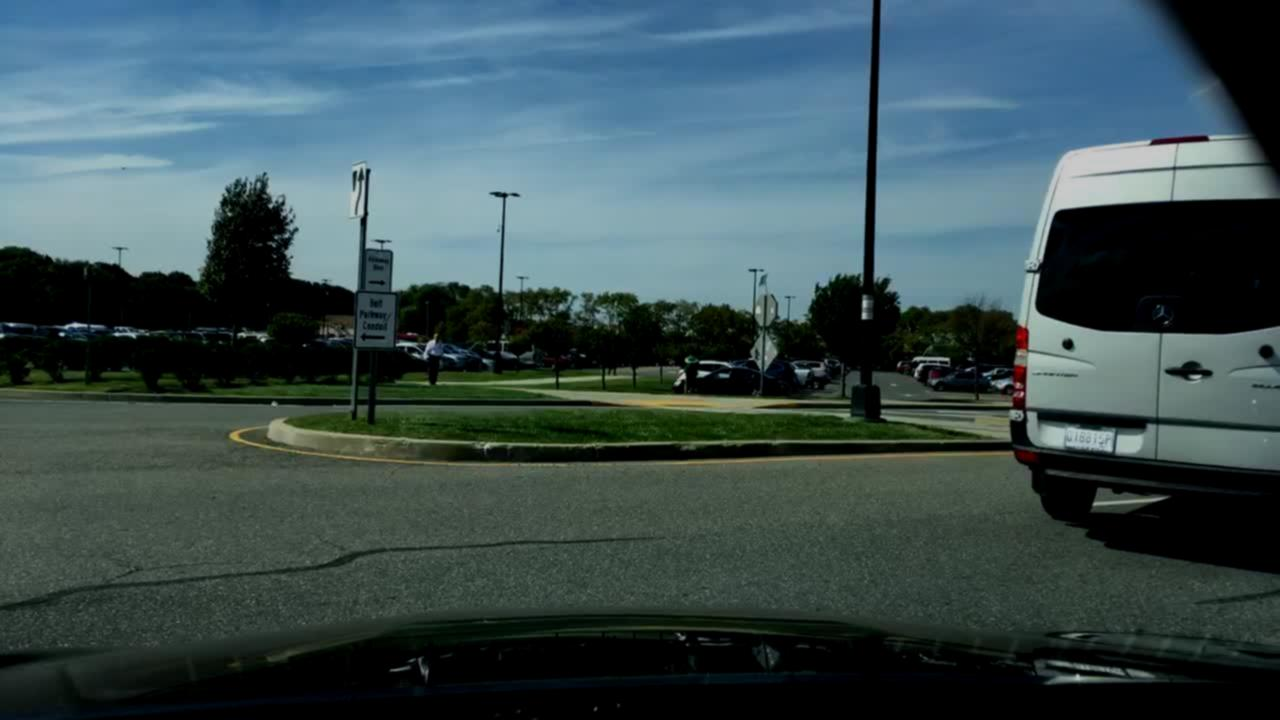Mercedes: (1145, 294, 1180, 337)
